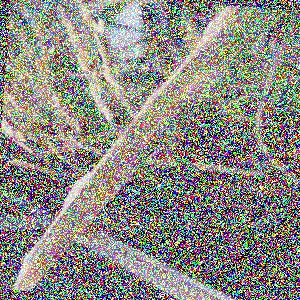Leaf_Blast: (41, 185, 90, 257)
